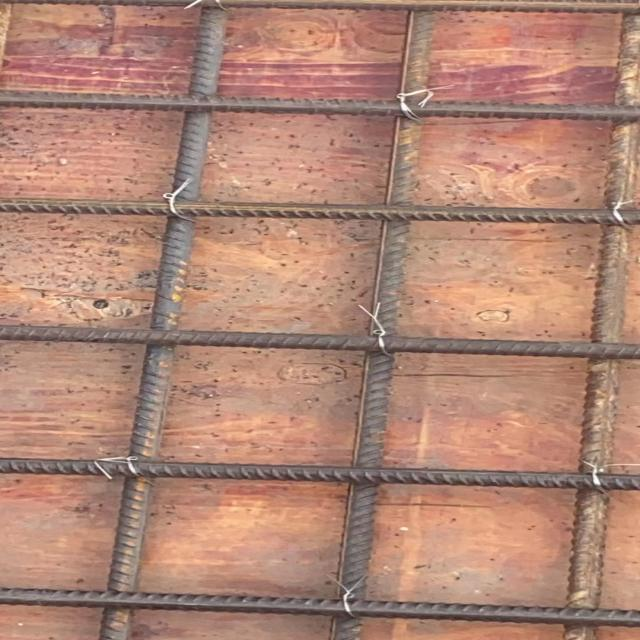ribbed bar: (97, 7, 234, 640), (330, 12, 439, 639), (560, 15, 639, 639), (0, 587, 639, 627), (0, 324, 639, 361), (0, 89, 639, 125), (0, 457, 639, 491), (0, 196, 639, 227)
